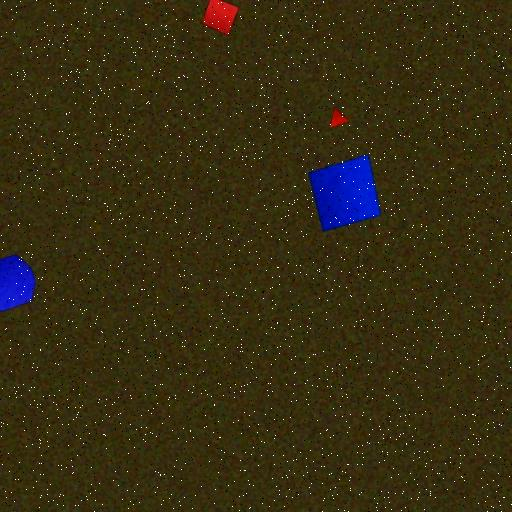BLUE_SQUARE: (308, 154, 382, 232)
RED_SQUARE: (201, 0, 239, 37)
